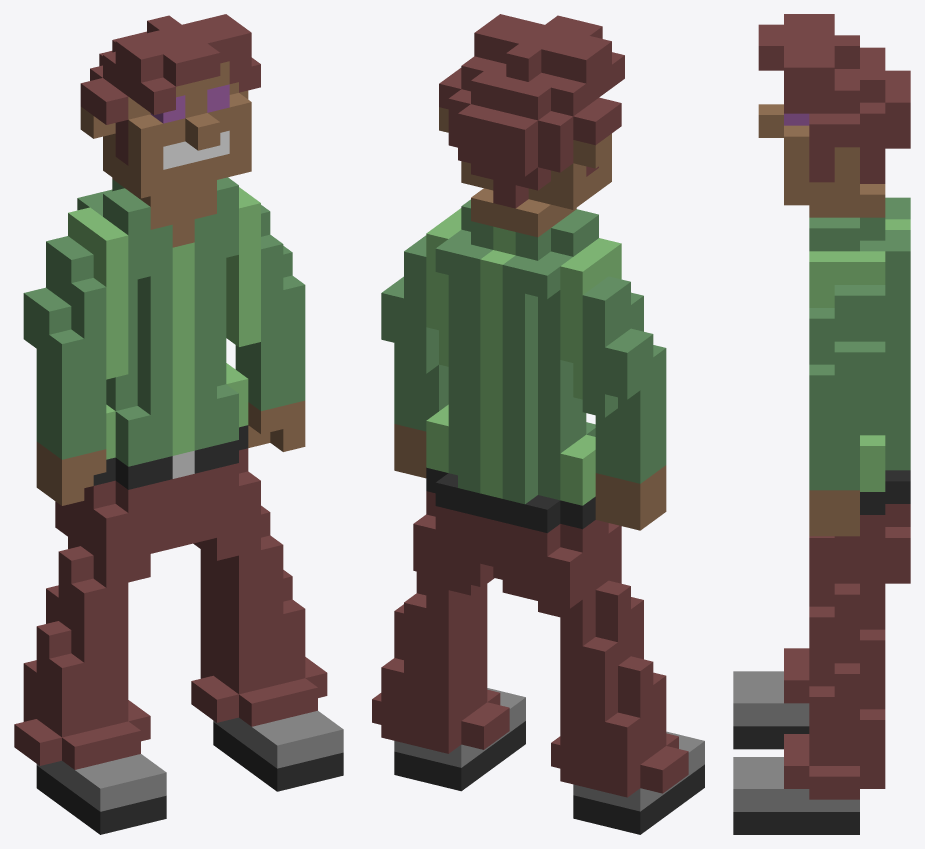
The model's file is man3_v1.fbx.
3 renders of one model, left to right at view 1: azimuth 30°, elevation 25°; view 2: azimuth 150°, elevation 25°; view 3: azimuth 270°, elevation 25°, orthographic.
Parts seen in each view (by area): view 1: man3; view 2: man3; view 3: man3.
Part boxes in pixels (x1,y1,x2,y2): man3: (14,14,343,834); man3: (372,14,704,834); man3: (733,14,910,834).
Size of the model in its own units: 13 by 32 by 7.
